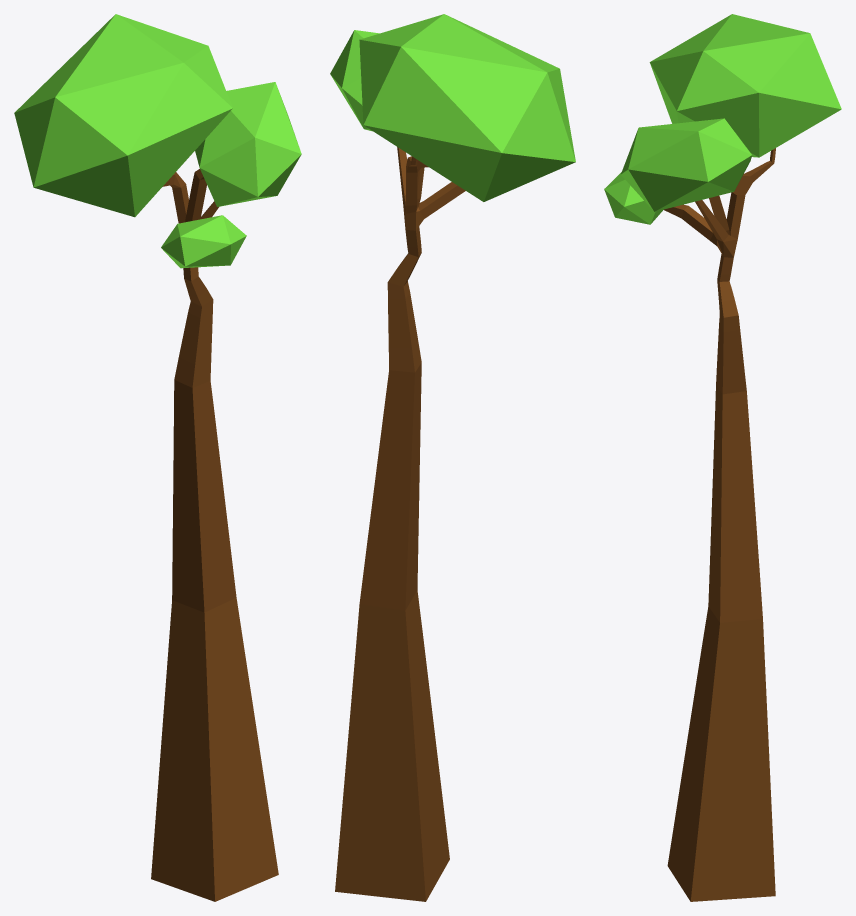
Rendered from Arvore_Tipo_2.fbx.
3 renders of one model, left to right at view 1: azimuth 30°, elevation 25°; view 2: azimuth 150°, elevation 25°; view 3: azimuth 270°, elevation 25°, orthographic. The views are drawn at different scales.
Visible parts, largest first — view 1: Cube.001, Icosphere, Icosphere.002, Icosphere.001; view 2: Cube.001, Icosphere, Icosphere.002; view 3: Cube.001, Icosphere, Icosphere.002, Icosphere.001.
Boxes of the visible parts, x1,y1,x2,y2 form: Cube.001: (151, 169, 278, 901); Icosphere: (14, 14, 232, 217); Icosphere.002: (195, 82, 301, 206); Icosphere.001: (161, 215, 246, 268); Cube.001: (335, 147, 465, 901); Icosphere: (359, 14, 575, 201); Icosphere.002: (330, 30, 379, 131); Cube.001: (664, 148, 775, 901); Icosphere: (649, 14, 841, 157); Icosphere.002: (621, 118, 751, 211); Icosphere.001: (604, 172, 663, 224).
Size of the model in its own units: 843 by 2771 by 724.
